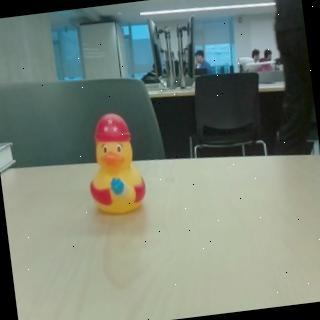duck_specialty: (80, 109, 151, 219)
